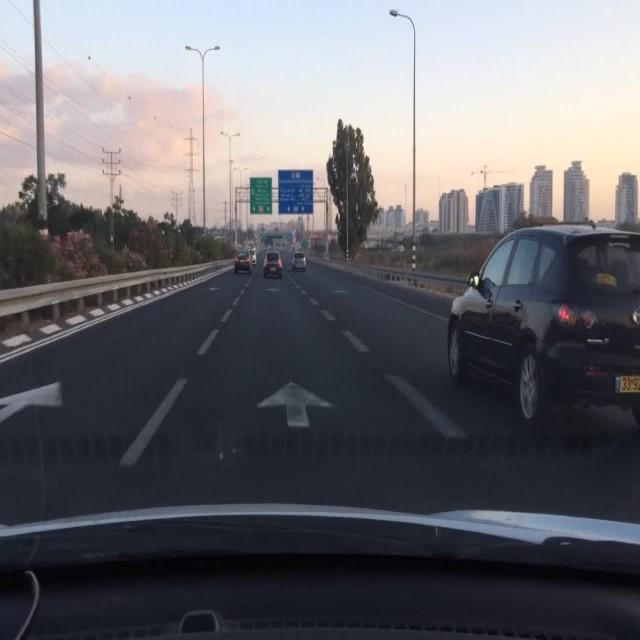normal: (417, 183, 640, 474)
